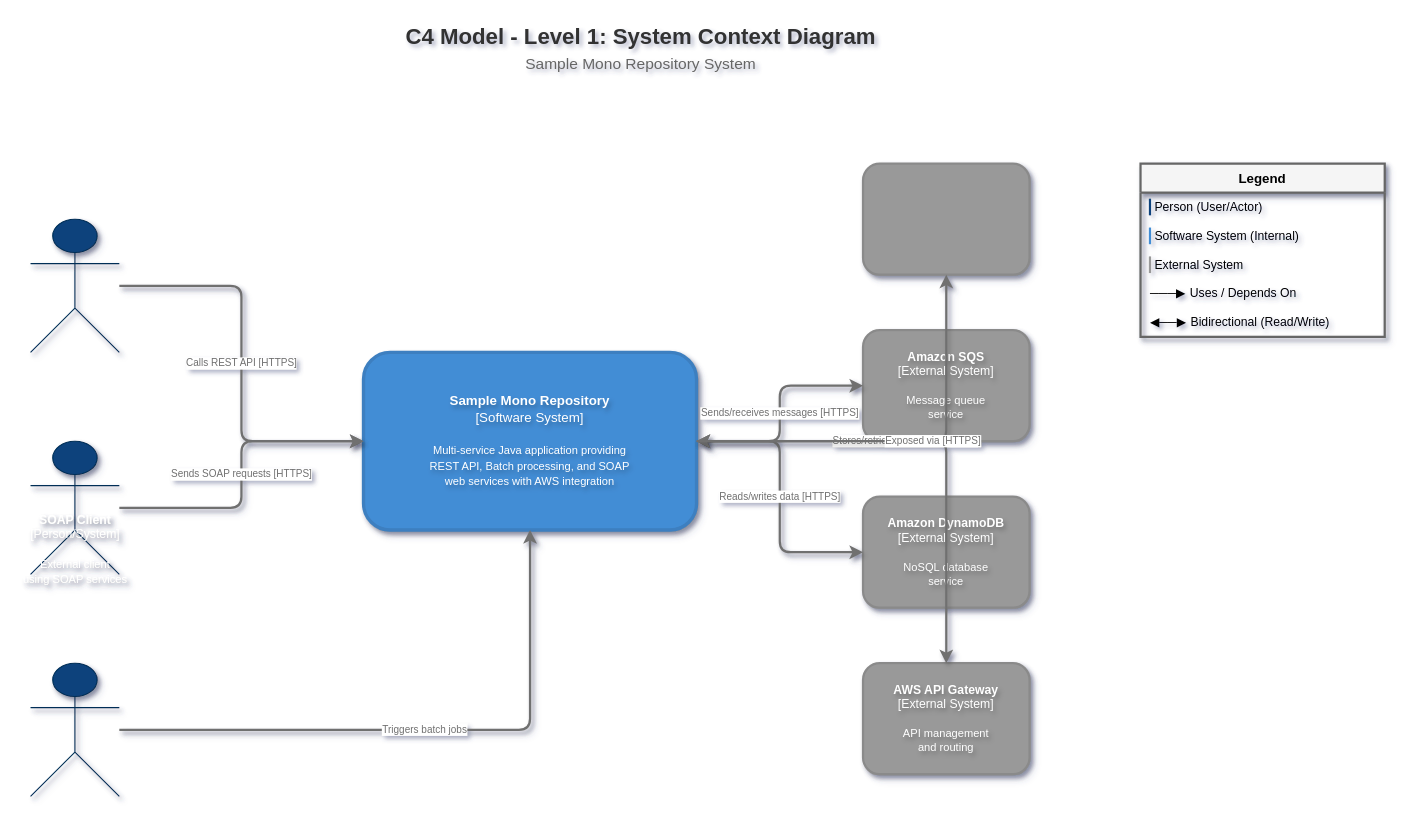
The diagram is 1419 pixels wide and 834 high, and some of its shapes have lost their labels. Here are the shapes that lost their labels. From the top down, the centre of each, then its label:
At pixel 947 220: "Amazon S3 [External System] Object storage service".
At pixel 75 287: "API Consumer [Person] External client consuming REST APIs".
At pixel 75 731: "Batch Operator [Person] Administrator triggering batch jobs".
